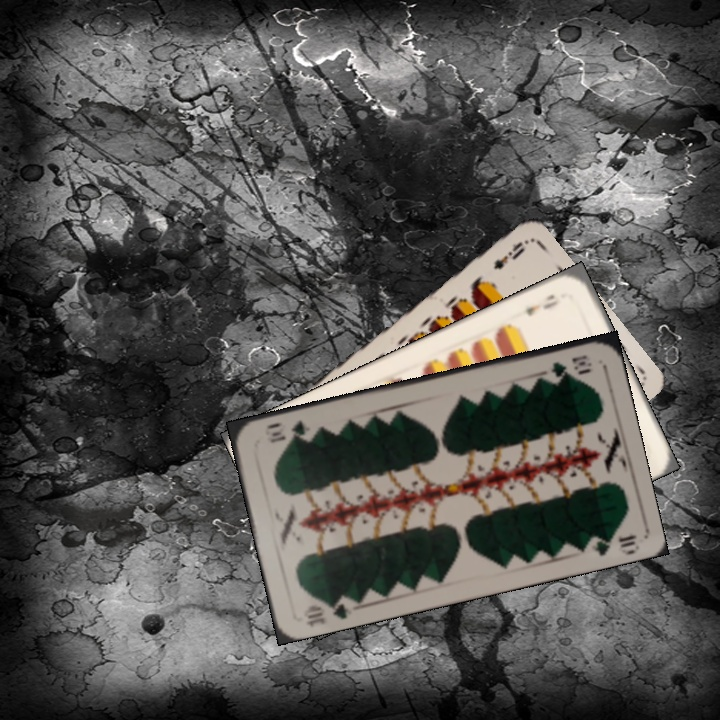E9: (489, 237, 530, 272), (521, 290, 562, 319)
G10: (299, 592, 355, 629), (547, 351, 594, 380)
